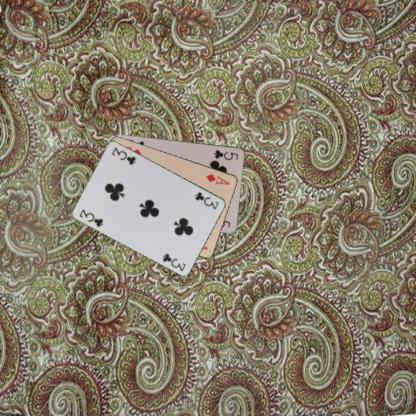3c: (77, 206, 104, 228), (193, 190, 220, 210)
5c: (212, 148, 239, 162)
Ad: (204, 171, 230, 186)
